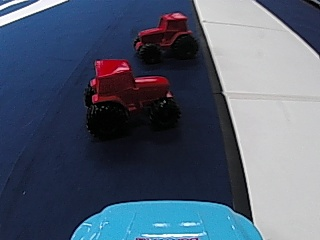Tracktor: (82, 55, 179, 136), (132, 8, 198, 63)
